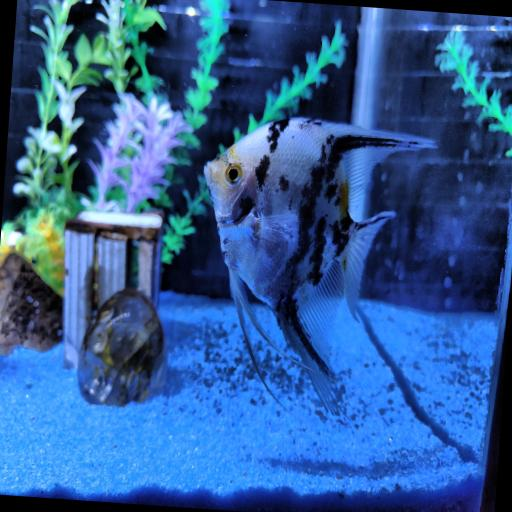Fish: (204, 118, 432, 411)
